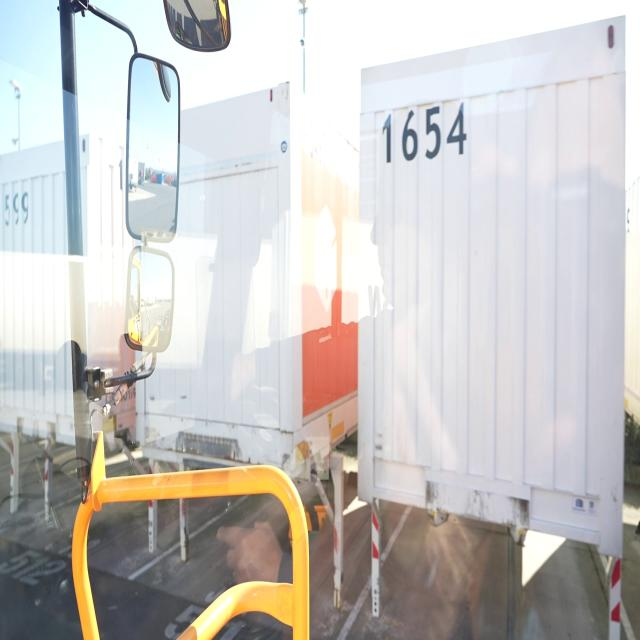Code: (374, 88, 470, 173)
